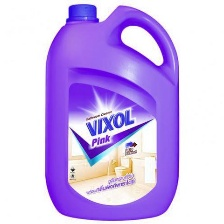cleaning_solution: (42, 3, 182, 223)
